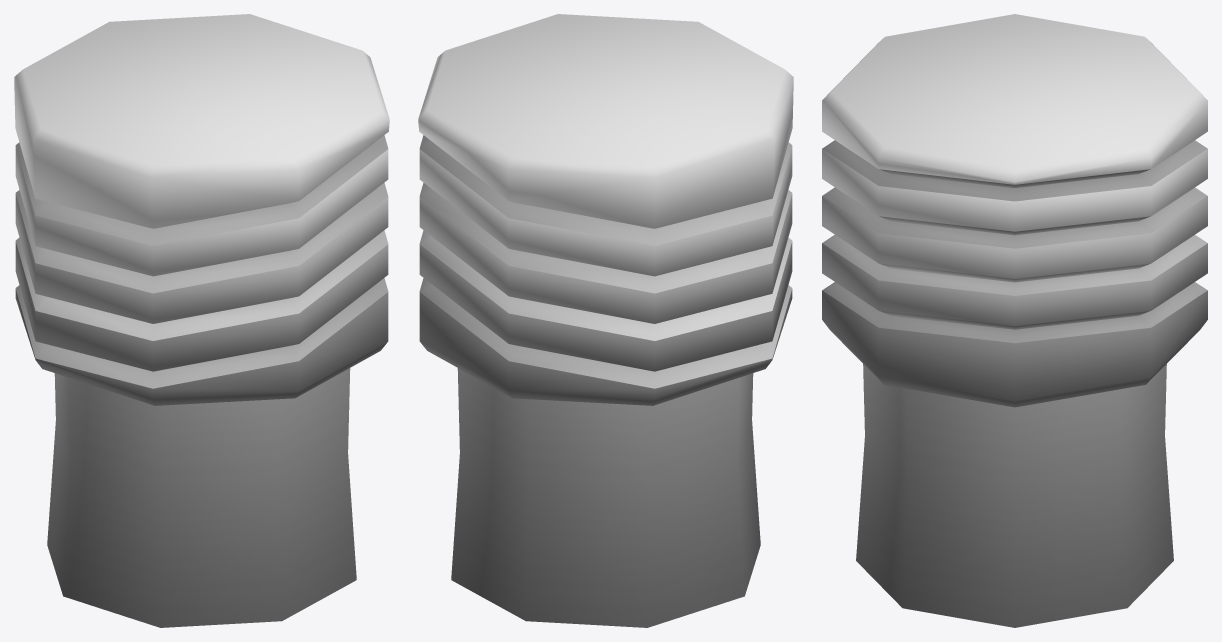
The model's file is stone_grip_050.glb.
3 renders of one model, left to right at view 1: azimuth 30°, elevation 25°; view 2: azimuth 150°, elevation 25°; view 3: azimuth 270°, elevation 25°, orthographic.
Visible parts, largest first — view 1: stone_grip.050; view 2: stone_grip.050; view 3: stone_grip.050.
Part boxes in pixels (left/top/right/bottom): stone_grip.050: left=14, top=14, right=389, bottom=627; stone_grip.050: left=418, top=14, right=793, bottom=627; stone_grip.050: left=822, top=14, right=1207, bottom=627.
Bounding box in the file's own units: 2.24 × 3 × 2.24.
1 material, 1 textured.
